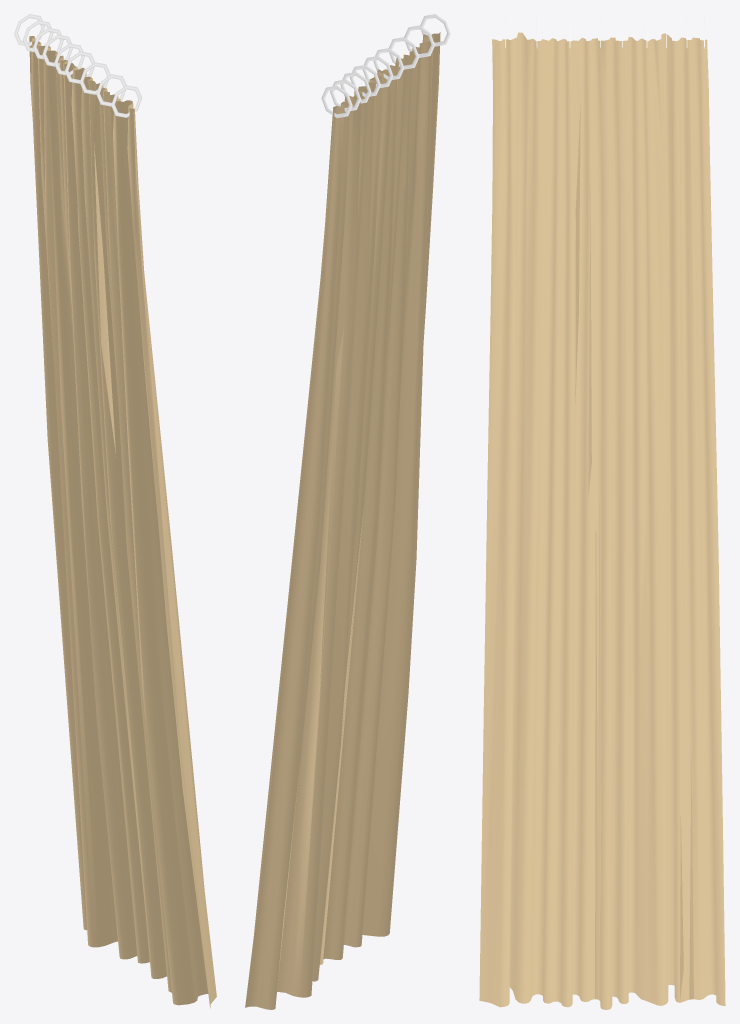
File: ShowerCurtain_05a3fd78.obj
3 views of the same model, side by side, from view 1: azimuth 30°, elevation 25°; view 2: azimuth 150°, elevation 25°; view 3: azimuth 270°, elevation 25° (orthographic).
Parts seen in each view (by area): view 1: Mesh_6bb2a9f1; view 2: Mesh_6bb2a9f1; view 3: Mesh_6bb2a9f1.
Part boxes in pixels (x1=…): Mesh_6bb2a9f1: x1=14, y1=14, x2=216, y2=1008; Mesh_6bb2a9f1: x1=245, y1=14, x2=450, y2=1009; Mesh_6bb2a9f1: x1=479, y1=15, x2=725, y2=1009.
Bounding box in the file's own units: 0.2314 × 1.92 × 0.4507.
